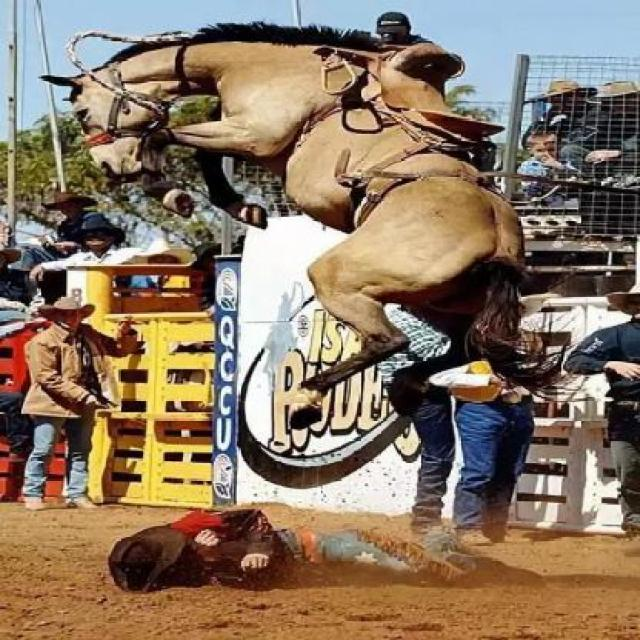fall: (82, 497, 493, 592)
